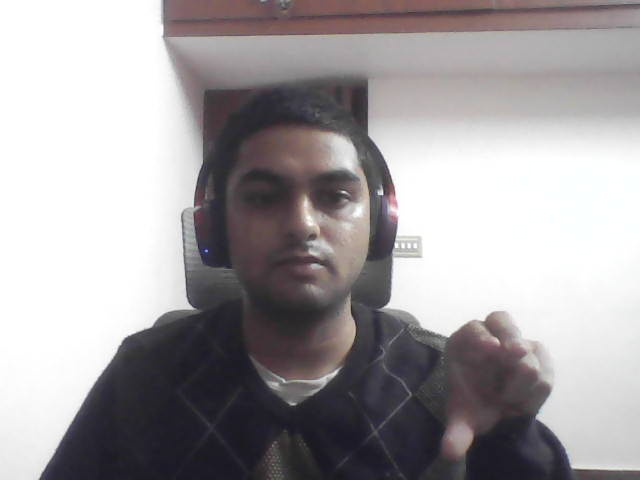No: (398, 291, 570, 470)
